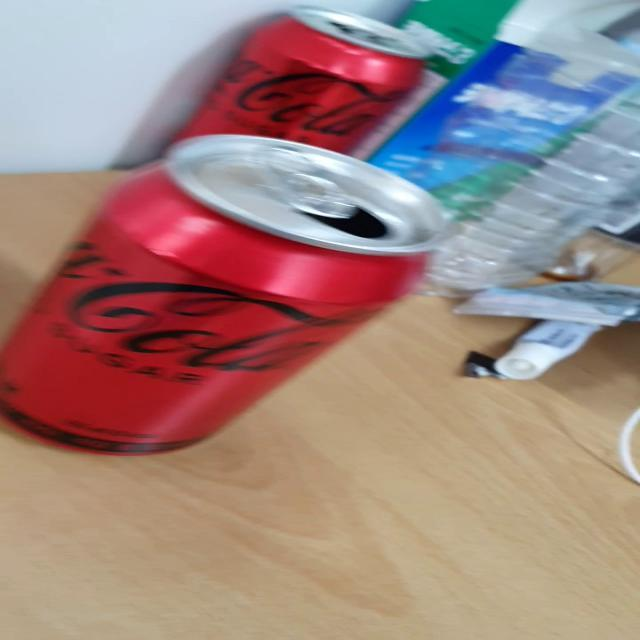coca-cola: (6, 128, 462, 470), (196, 4, 440, 220)
